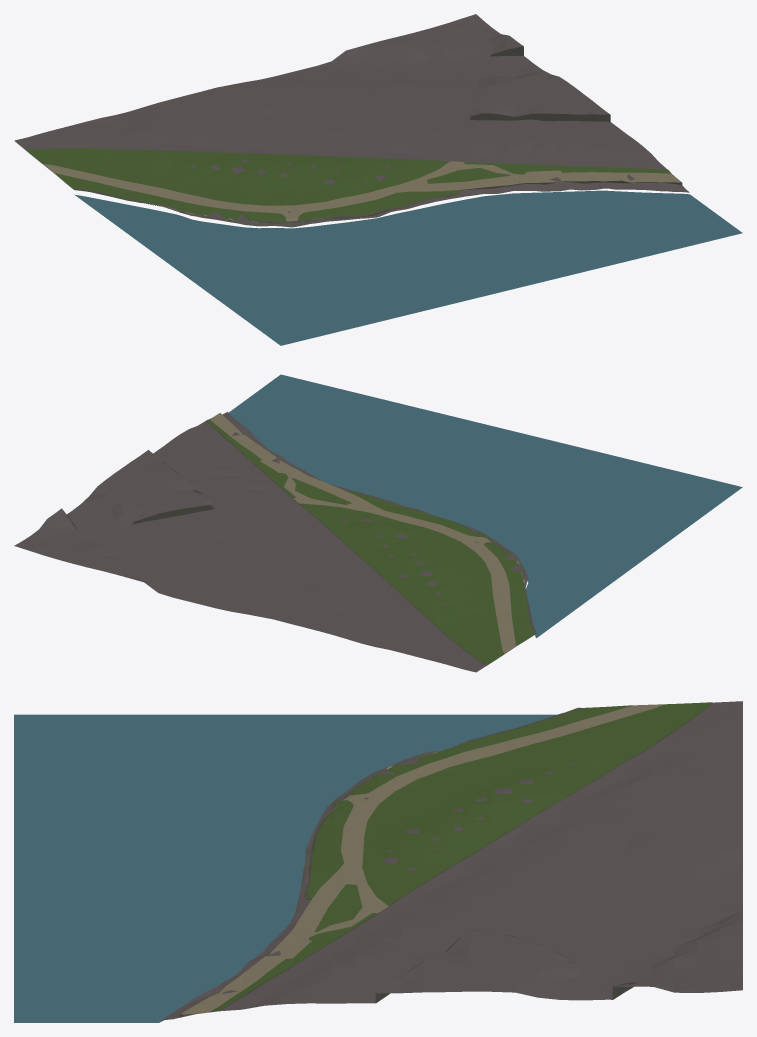
3 renders of one model, top to bottom at view 1: azimuth 30°, elevation 25°; view 2: azimuth 150°, elevation 25°; view 3: azimuth 270°, elevation 25°, orthographic. The views are drawn at different scales.
Visible parts, largest first — view 1: c_m17_m01; view 2: c_m17_m01; view 3: c_m17_m01.
Boxes of the visible parts, box(x1,y1,x2,y2) form: c_m17_m01: box(14, 14, 742, 345); c_m17_m01: box(14, 374, 742, 672); c_m17_m01: box(14, 701, 742, 1022).
Size of the model in its own units: 128 by 7.05 by 128.
